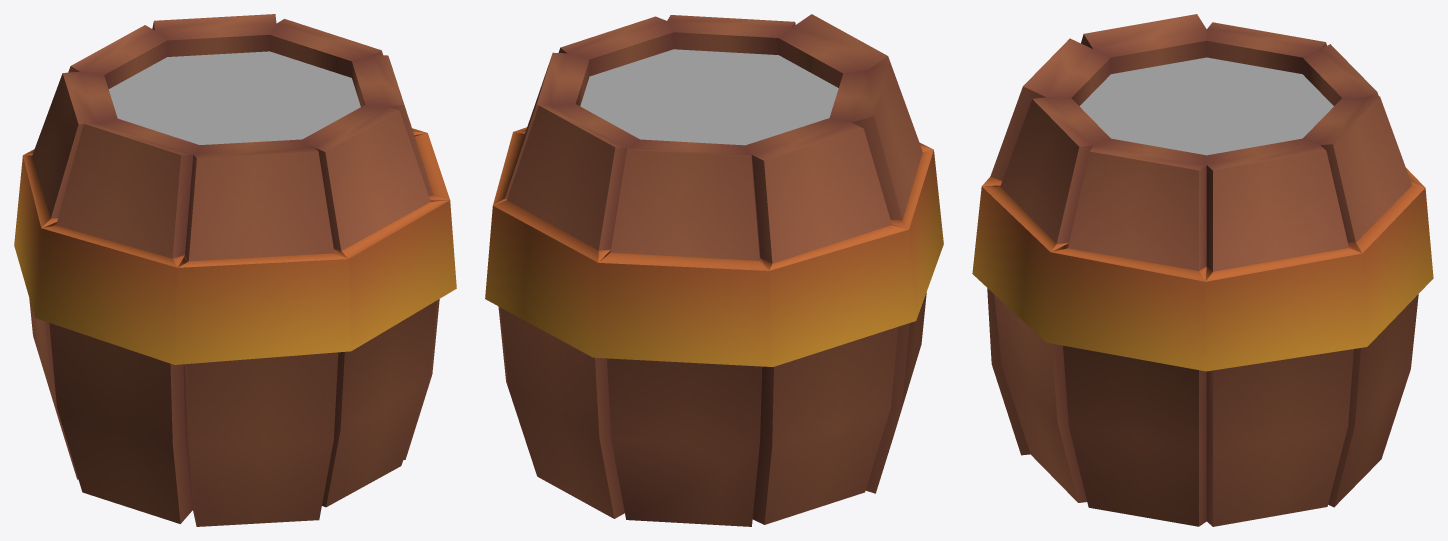
The model's file is Barrel1.fbx.
3 renders of one model, left to right at view 1: azimuth 30°, elevation 25°; view 2: azimuth 150°, elevation 25°; view 3: azimuth 270°, elevation 25°, orthographic. The views are drawn at different scales.
Visible parts, largest first — view 1: Barrel01; view 2: Barrel01; view 3: Barrel01.
Part boxes in pixels (<box>): Barrel01: <box>14,14,456,526</box>; Barrel01: <box>485,14,943,526</box>; Barrel01: <box>972,14,1433,526</box>.
Bounding box in the file's own units: 130 × 114 × 129.
Materials: 2 (1 with a texture image).
